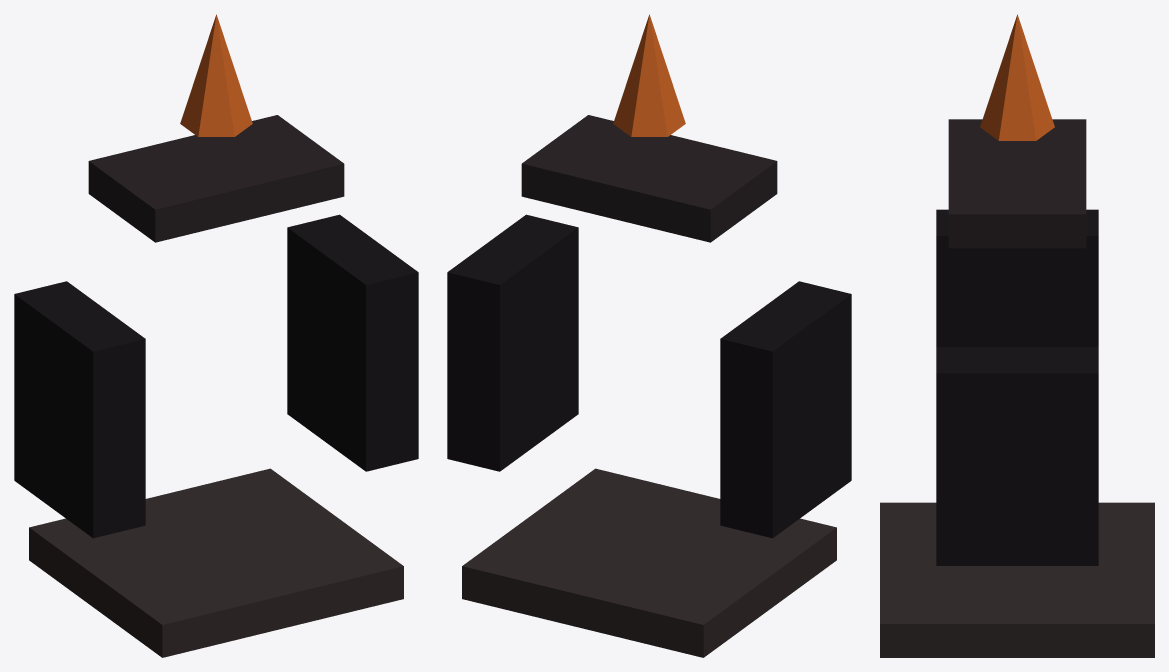
File: ember_obsidian_gate.glb
3 views of the same model, side by side, from view 1: azimuth 30°, elevation 25°; view 2: azimuth 150°, elevation 25°; view 3: azimuth 270°, elevation 25° (orthographic). The views are drawn at different scales.
Visible parts, largest first — view 1: ember_obsidian_gate; view 2: ember_obsidian_gate; view 3: ember_obsidian_gate.
Boxes of the visible parts, bbox=[...] form: ember_obsidian_gate: bbox=[14, 14, 418, 657]; ember_obsidian_gate: bbox=[447, 14, 851, 657]; ember_obsidian_gate: bbox=[880, 14, 1154, 657].
Size of the model in its own units: 31 by 51.5 by 22.
